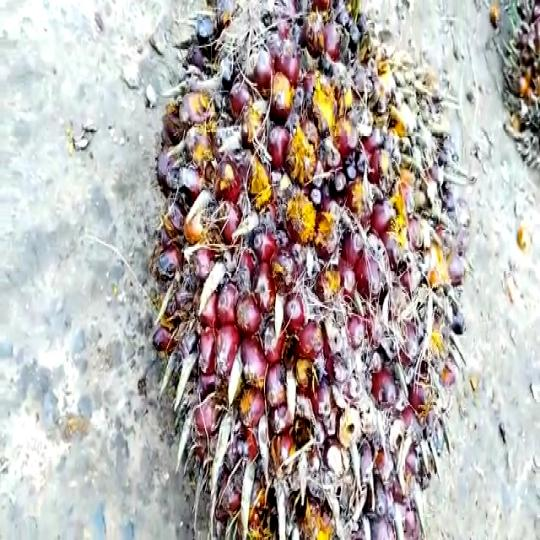masak: (136, 0, 471, 540)
